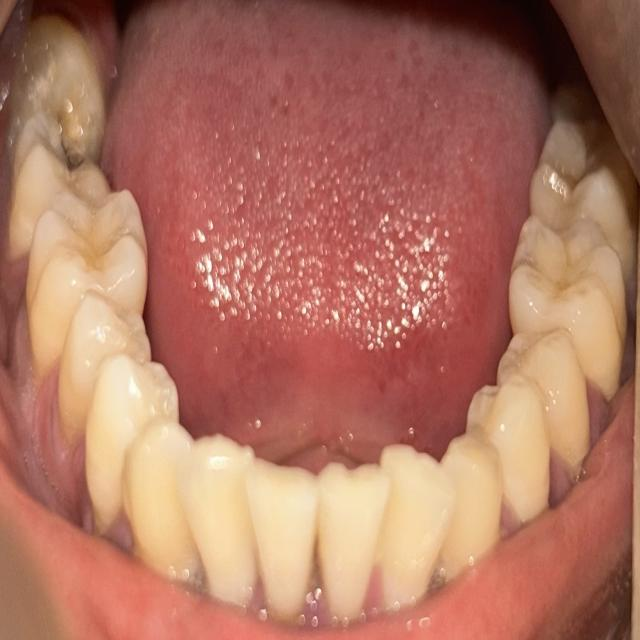processing_area: (102, 0, 548, 447)
